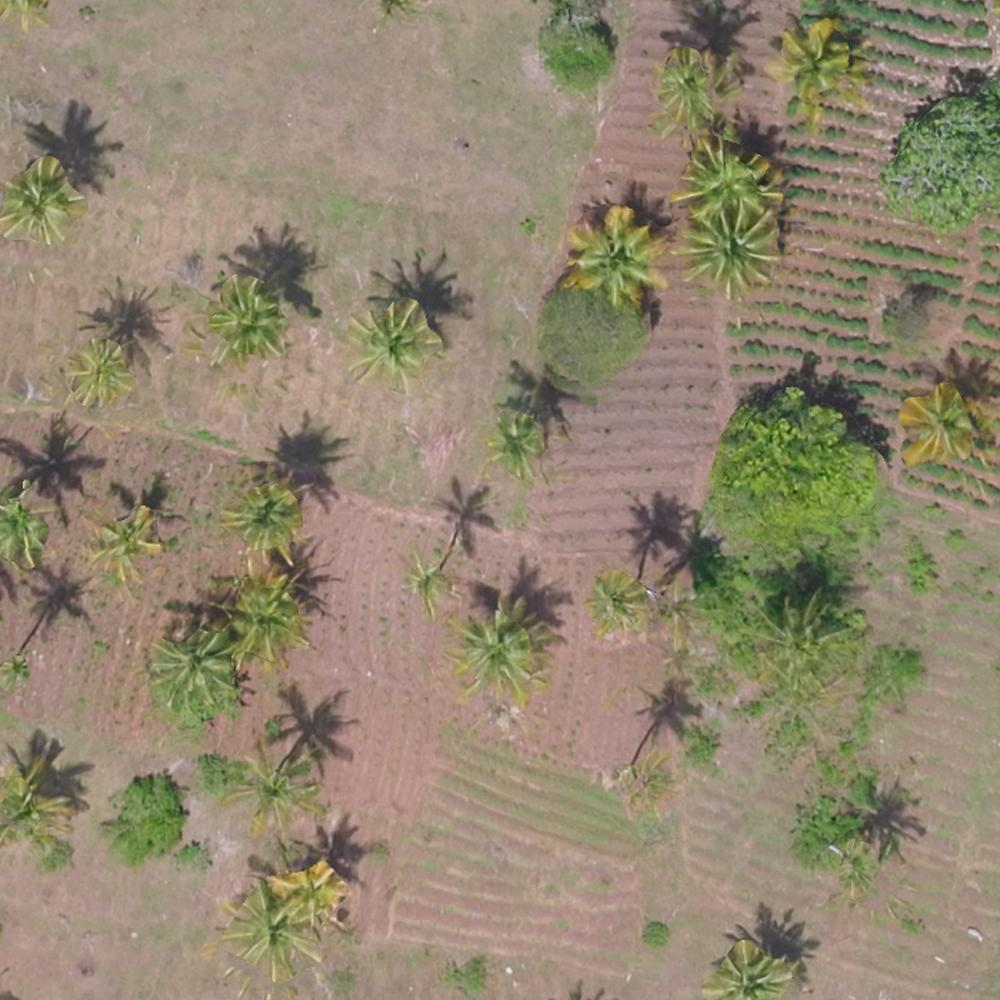Palm: (213, 883, 321, 988), (677, 210, 783, 290), (450, 610, 547, 694), (677, 142, 777, 221), (572, 212, 659, 299), (775, 23, 859, 105), (221, 584, 303, 665), (212, 280, 290, 364), (900, 383, 977, 468), (3, 160, 77, 245), (232, 756, 314, 832), (350, 305, 426, 381), (221, 484, 307, 550), (153, 631, 232, 701), (85, 509, 159, 578), (707, 946, 784, 1000), (659, 55, 718, 124), (391, 555, 455, 616), (69, 344, 129, 406), (583, 573, 644, 632), (488, 417, 544, 481)
